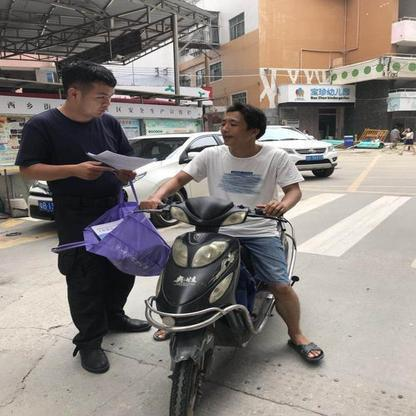target: (143, 102, 325, 412)
